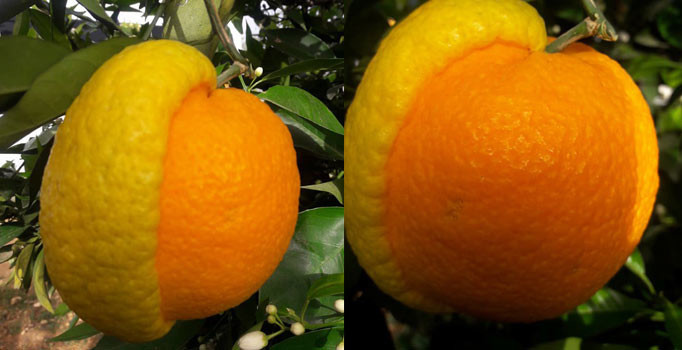orange: (357, 35, 656, 334), (56, 73, 314, 321)
